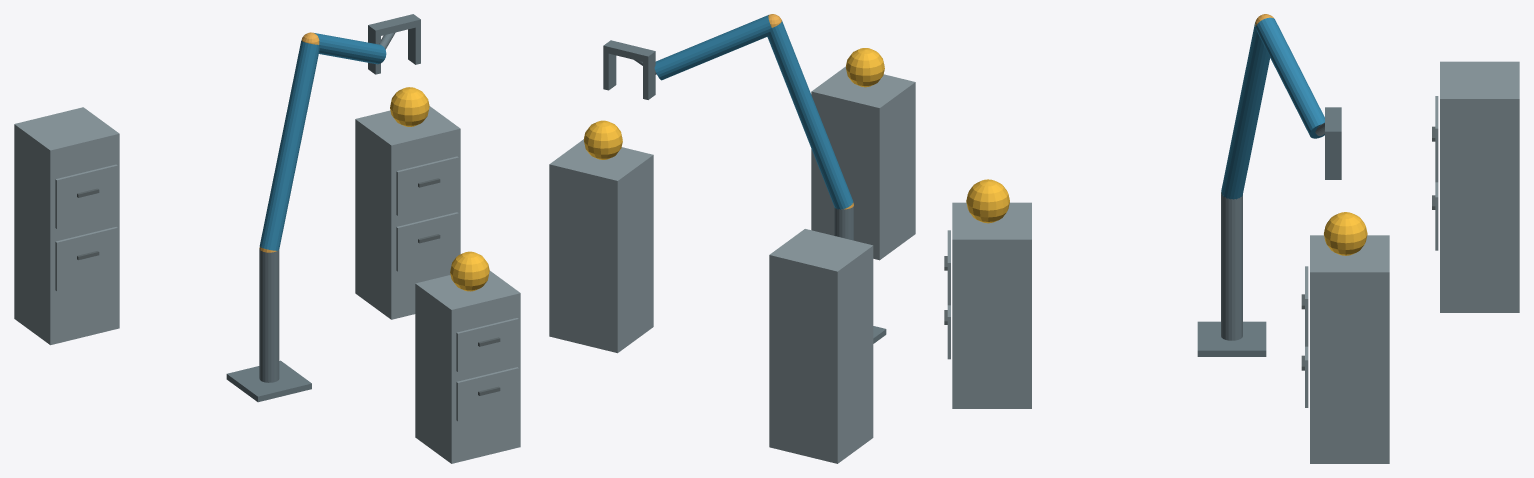
3 views of the same model, side by side, from view 1: azimuth 30°, elevation 25°; view 2: azimuth 150°, elevation 25°; view 3: azimuth 270°, elevation 25° (orthographic). The views are drawn at different scales.
Parts seen in each view (by area): view 1: cabinet_3 body, cabinet_2 body, cabinet_1 body, moving link 1, cabinet_3 drawer front.001, cabinet_3 drawer front, cabinet_2 drawer front, cabinet_2 drawer front.001, fixed post, cabinet_1 drawer front, cabinet_1 drawer front.001, pedestal (+4 smaller); view 2: cabinet_3 body, cabinet_2 body, cabinet_1 body, moving link 1, moving link 2, ball ball_2, released ball_1, gripper bridge, fixed post, gripper finger 1, gripper finger -1; view 3: cabinet_3 body, cabinet_2 body, cabinet_1 body, moving link 1, fixed post, moving link 2, pedestal, released ball_1, ball ball_2, gripper finger 1.
Boxes of the visible parts, left/top/right/bottom form: cabinet_3 body: left=14, top=107, right=119, bottom=345; cabinet_2 body: left=355, top=106, right=460, bottom=319; cabinet_1 body: left=415, top=270, right=520, bottom=463; moving link 1: left=259, top=40, right=319, bottom=250; cabinet_3 drawer front.001: left=55, top=164, right=117, bottom=228; cabinet_3 drawer front: left=55, top=227, right=117, bottom=291; cabinet_2 drawer front: left=396, top=212, right=458, bottom=271; cabinet_2 drawer front.001: left=396, top=156, right=458, bottom=215; fixed post: left=259, top=248, right=279, bottom=382; cabinet_1 drawer front: left=456, top=367, right=518, bottom=421; cabinet_1 drawer front.001: left=456, top=318, right=518, bottom=371; pedestal: left=226, top=360, right=311, bottom=402; cabinet_3 body: left=769, top=229, right=873, bottom=463; cabinet_2 body: left=549, top=139, right=653, bottom=353; cabinet_1 body: left=811, top=66, right=915, bottom=260; moving link 1: left=767, top=20, right=853, bottom=209; moving link 2: left=654, top=15, right=771, bottom=80; ball ball_2: left=583, top=120, right=622, bottom=159; released ball_1: left=846, top=48, right=884, bottom=87; gripper bridge: left=603, top=40, right=655, bottom=63; fixed post: left=834, top=206, right=853, bottom=240; gripper finger 1: left=603, top=52, right=616, bottom=90; gripper finger -1: left=643, top=58, right=655, bottom=99; cabinet_3 body: left=1440, top=61, right=1519, bottom=312; cabinet_2 body: left=1310, top=235, right=1389, bottom=463; cabinet_1 body: left=952, top=202, right=1031, bottom=408; moving link 1: left=1221, top=22, right=1269, bottom=199; fixed post: left=1221, top=193, right=1242, bottom=340; moving link 2: left=1256, top=17, right=1324, bottom=138; pedestal: left=1197, top=321, right=1266, bottom=356; released ball_1: left=966, top=179, right=1009, bottom=223; ball ball_2: left=1324, top=212, right=1367, bottom=255; gripper finger 1: left=1325, top=139, right=1341, bottom=179.
Size of the model in its own units: 1.62 by 1.44 by 2.1.
